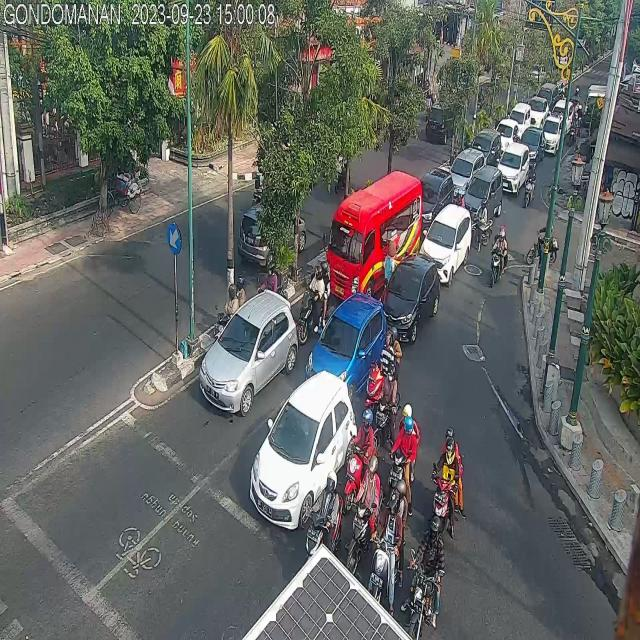bus: (326, 168, 422, 298)
car: (246, 371, 352, 525), (200, 289, 296, 413), (309, 295, 386, 387), (381, 252, 441, 340), (238, 208, 309, 268), (421, 206, 472, 284), (463, 167, 503, 229), (420, 167, 455, 216), (497, 140, 529, 190), (450, 144, 484, 188), (521, 122, 545, 170)
motorcycle: (408, 517, 442, 637), (373, 488, 404, 612), (387, 406, 420, 506), (366, 331, 402, 418), (433, 423, 462, 528), (376, 358, 397, 450), (489, 224, 509, 293), (520, 164, 536, 208)
